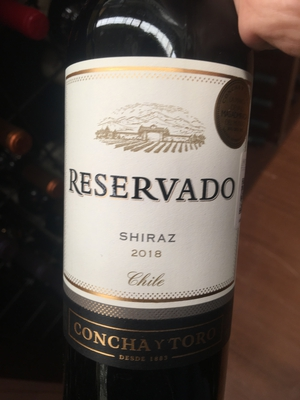reservado shiraz: (63, 14, 256, 400)
